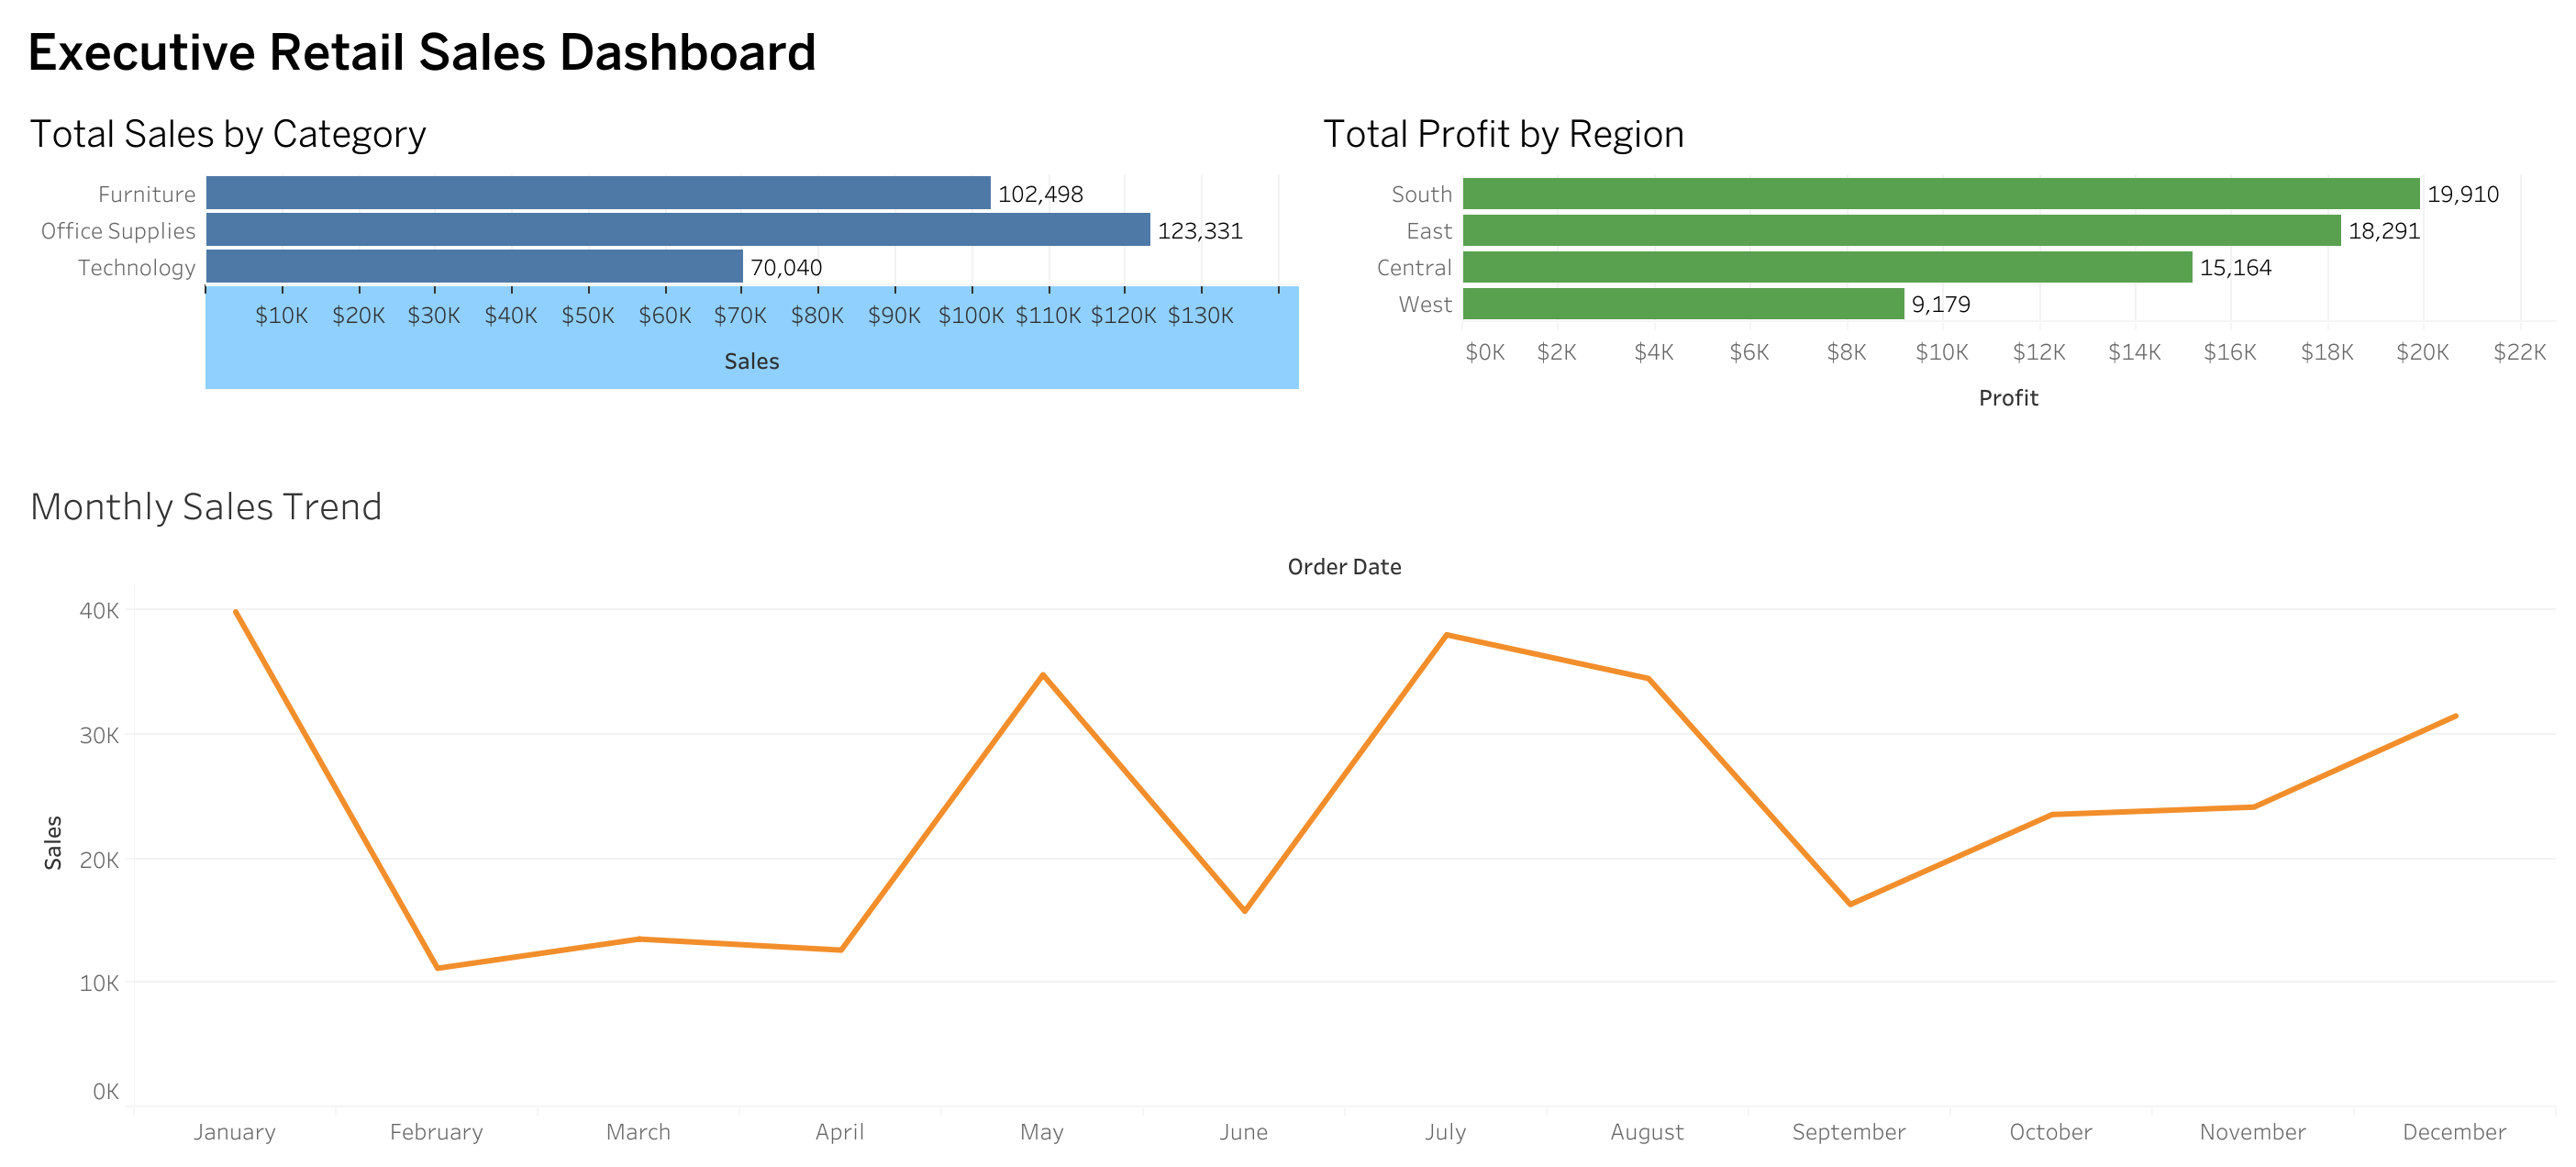

What the dashboard file says about the page in this screenshot:
{"tool":"tableau","page":{"name":"Dashboard 1","canvas":[1000,1000],"units":"permille","ordinal":0},"visuals":[{"type":"title","box":[6.5,11.1,987,56.8]},{"type":"worksheet","title":"Sales By Category","mark":"Automatic","rows":["Category"],"cols":["Sales"],"box":[6.5,67.9,501.6,279.8]},{"type":"worksheet","title":"Profit By Region","mark":"Automatic","rows":["Region"],"cols":["Profit"],"box":[508.1,67.9,485.3,279.8]},{"type":"worksheet","title":"Monthly Sales Trend","mark":"Automatic","rows":["Sales"],"cols":["OrderDate"],"box":[6.5,347.7,987,641.3]}]}

Visuals, with their boxes on the dashboard's canvas, which has no fixed pixel size, in thousandths of its width and height (x1, y1, x2, y2). These are canvas units, not pixel positions in the 2576x1167 screenshot, which may show the page scaled, cropped or inside an application window:
title: bbox=[6, 11, 994, 68]
"Sales By Category" worksheet: bbox=[6, 68, 508, 348]
"Profit By Region" worksheet: bbox=[508, 68, 993, 348]
"Monthly Sales Trend" worksheet: bbox=[6, 348, 994, 989]
